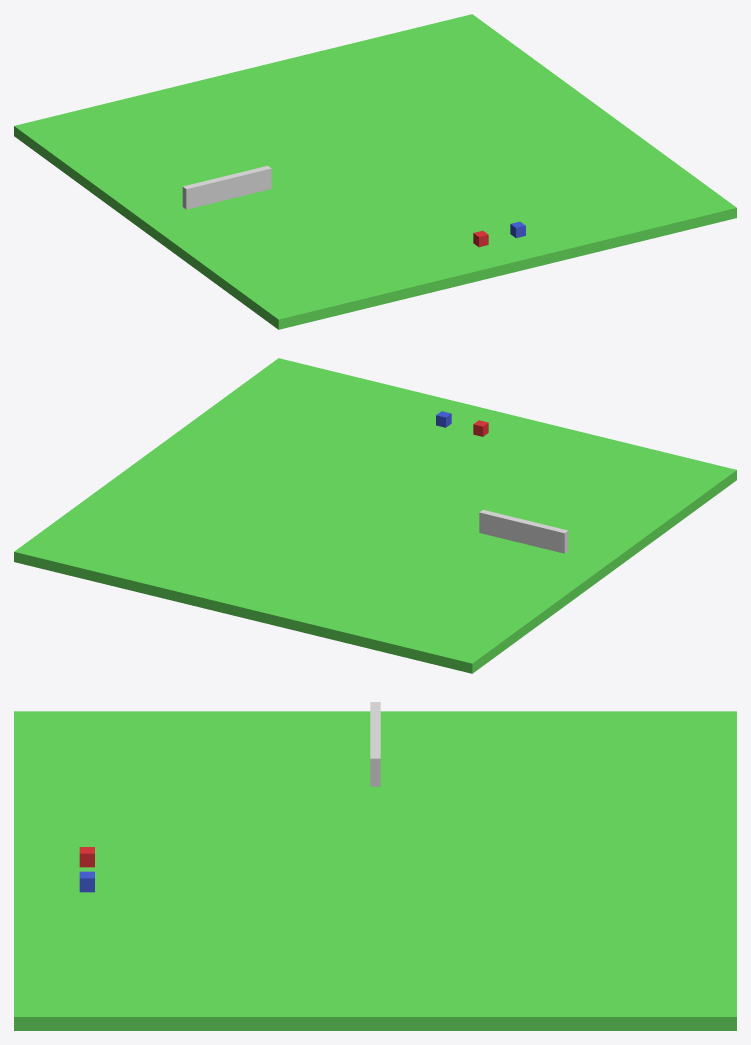
The model's file is game.gltf.
3 views of the same model, one above another, from view 1: azimuth 30°, elevation 25°; view 2: azimuth 150°, elevation 25°; view 3: azimuth 270°, elevation 25° (orthographic). The views are drawn at different scales.
Parts seen in each view (by area): view 1: Plane, Mur; view 2: Plane, Mur; view 3: Plane, Mur.
Part boxes in pixels (bbox=[...]): Plane: bbox=[14, 14, 736, 329]; Mur: bbox=[182, 165, 271, 209]; Plane: bbox=[14, 358, 736, 673]; Mur: bbox=[479, 509, 568, 553]; Plane: bbox=[14, 711, 736, 1030]; Mur: bbox=[370, 702, 380, 786].
Bounding box in the file's own units: 46.89 × 3.5 × 46.89.
